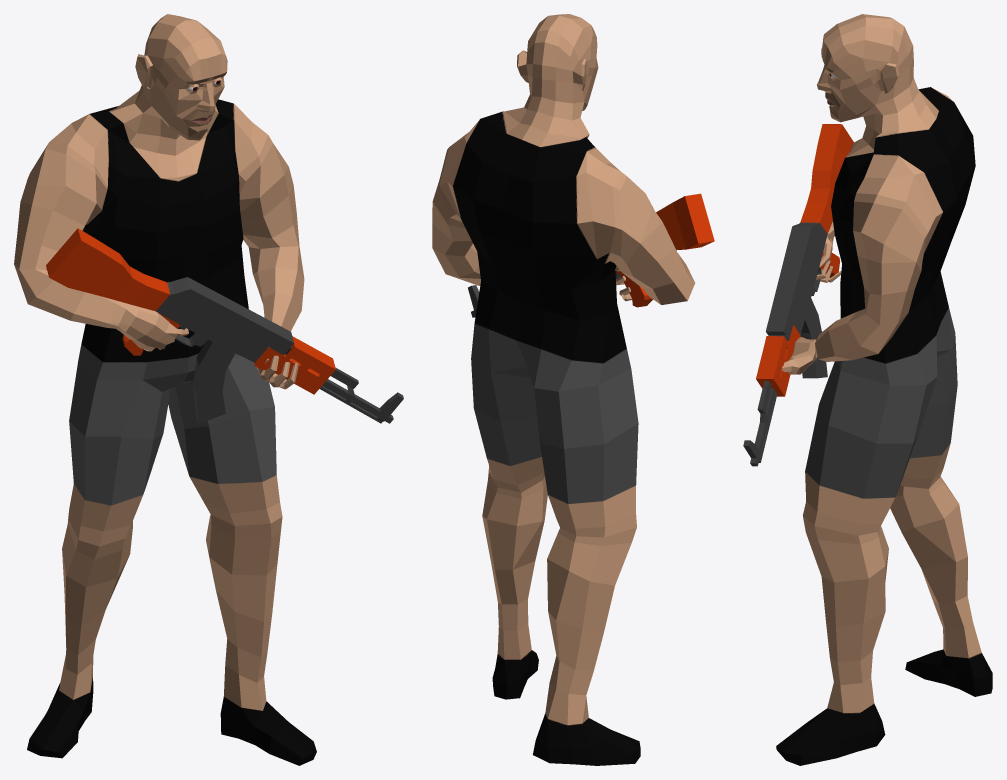
Rendered from PlayerIdle(184).obj.
3 renders of one model, left to right at view 1: azimuth 30°, elevation 25°; view 2: azimuth 150°, elevation 25°; view 3: azimuth 270°, elevation 25°, orthographic. The views are drawn at different scales.
Visible parts, largest first — view 1: Plane002, Object001; view 2: Plane002, Object001; view 3: Plane002, Object001.
Boxes of the visible parts, left/top/right/bottom form: Plane002: left=14, top=14, right=316, bottom=765; Object001: left=46, top=228, right=403, bottom=423; Plane002: left=432, top=14, right=695, bottom=765; Object001: left=468, top=193, right=714, bottom=317; Plane002: left=776, top=14, right=992, bottom=765; Object001: left=743, top=124, right=853, bottom=466.
Bounding box in the file's own units: 793 × 1802 × 579.
